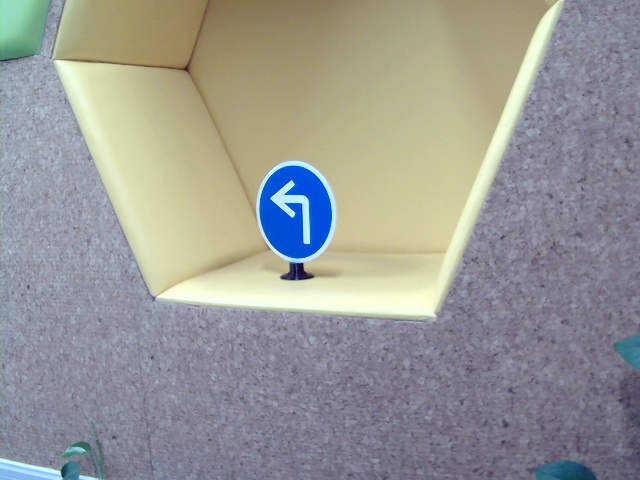turn_left: (270, 178, 314, 243)
